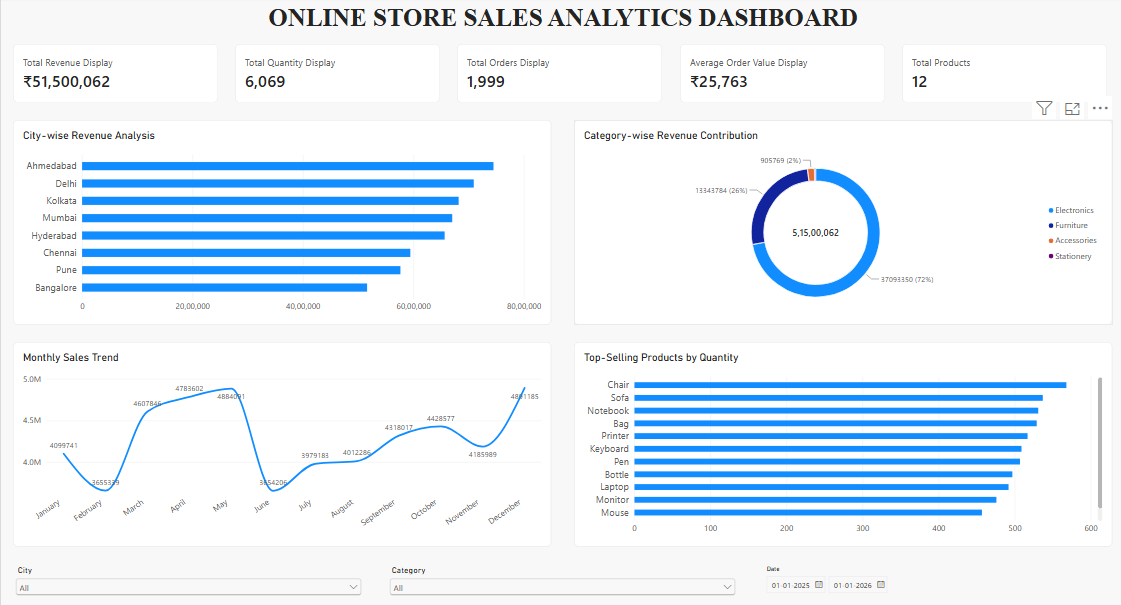

The page's visual inventory and layout, read from the dashboard file:
{"tool":"powerbi","page":{"name":"Page 1","canvas":[1920,1080],"ordinal":0},"visuals":[{"type":"cardVisual","fields":{"Data":["sales_data_cleaned.Total Revenue Display"]},"box":[20,80,350,100],"z":0},{"type":"cardVisual","fields":{"Data":["sales_data_cleaned.Total Quantity Display"]},"box":[400,80,350,100],"z":1000},{"type":"cardVisual","fields":{"Data":["sales_data_cleaned.Total Orders Display"]},"box":[780,80,350,100],"z":2000},{"type":"cardVisual","fields":{"Data":["sales_data_cleaned.Average Order Value Display"]},"box":[1160,80,350,100],"z":3000},{"type":"cardVisual","fields":{"Data":["sales_data_cleaned.Total Products"]},"box":[1540,80,350,100],"z":4000},{"type":"clusteredBarChart","title":"City-wise Revenue Analysis","fields":{"Category":["sales_data_cleaned.City"],"Y":["sales_data_cleaned.Total Revenue"]},"box":[20,210,920,350],"z":5000},{"type":"donutChart","title":"Category-wise Revenue Contribution","fields":{"Category":["sales_data_cleaned.Category"],"Y":["sales_data_cleaned.Total Revenue"]},"box":[980,210,920,350],"z":6000},{"type":"lineChart","title":"Monthly Sales Trend","fields":{"Category":["sales_data_cleaned.Date.Variation.Date Hierarchy.Year","sales_data_cleaned.Date.Variation.Date Hierarchy.Month"],"Y":["sales_data_cleaned.Total Revenue"]},"box":[20,590,920,350],"z":7000},{"type":"clusteredBarChart","title":"Top-Selling Products by Quantity","fields":{"Category":["sales_data_cleaned.Product"],"Y":["sales_data_cleaned.Total Quantity"]},"box":[980,590,920,350],"z":8000},{"type":"textbox","box":[20,10,1880,55],"z":9000},{"type":"slicer","fields":{"Values":["sales_data_cleaned.City"]},"box":[20,970,600,65],"z":10000},{"type":"slicer","fields":{"Values":["sales_data_cleaned.Category"]},"box":[660,970,600,65],"z":11000},{"type":"slicer","fields":{"Values":["sales_data_cleaned.Date"]},"box":[1300,970,600,65],"z":12000}]}

Visuals, with their boxes on the page's 1920x1080 design canvas (x1, y1, x2, y2). These are canvas units, not pixel positions in the 1121x605 screenshot, which may show the page scaled, cropped or inside an application window:
cardVisual - sales_data_cleaned.Total Revenue Display: <box>20,80,370,180</box>
cardVisual - sales_data_cleaned.Total Quantity Display: <box>400,80,750,180</box>
cardVisual - sales_data_cleaned.Total Orders Display: <box>780,80,1130,180</box>
cardVisual - sales_data_cleaned.Average Order Value Display: <box>1160,80,1510,180</box>
cardVisual - sales_data_cleaned.Total Products: <box>1540,80,1890,180</box>
"City-wise Revenue Analysis" clusteredBarChart: <box>20,210,940,560</box>
"Category-wise Revenue Contribution" donutChart: <box>980,210,1900,560</box>
"Monthly Sales Trend" lineChart: <box>20,590,940,940</box>
"Top-Selling Products by Quantity" clusteredBarChart: <box>980,590,1900,940</box>
textbox: <box>20,10,1900,65</box>
slicer - sales_data_cleaned.City: <box>20,970,620,1035</box>
slicer - sales_data_cleaned.Category: <box>660,970,1260,1035</box>
slicer - sales_data_cleaned.Date: <box>1300,970,1900,1035</box>
